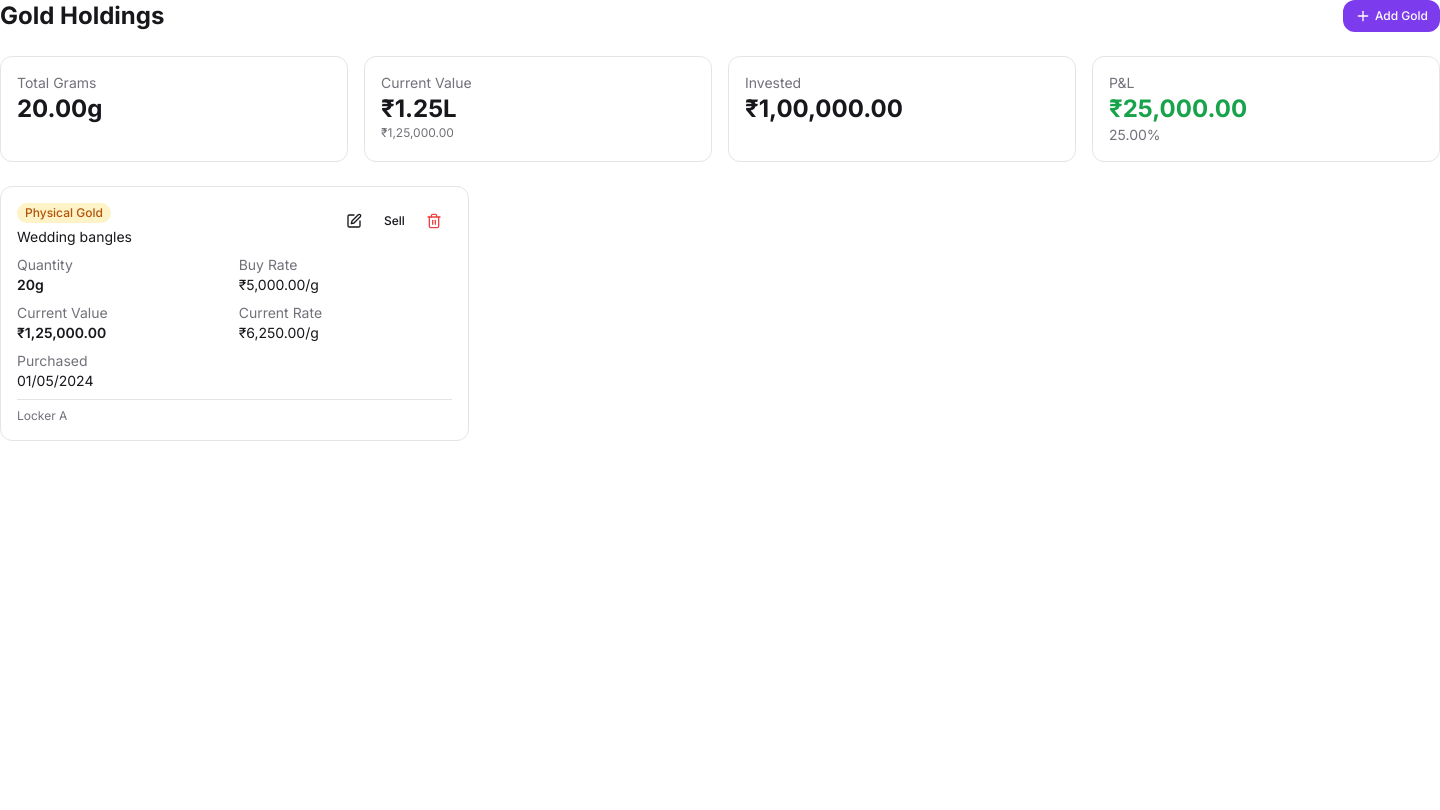
Test: Gold page — smoke › a MEMBER can open the add-holding form
Expected: the text "Wedding bangles" is shown, x1=17 y1=227 x2=132 y2=247
Click the button "Add Gold": (1391, 16) x1=1343 y1=0 x2=1439 y2=32
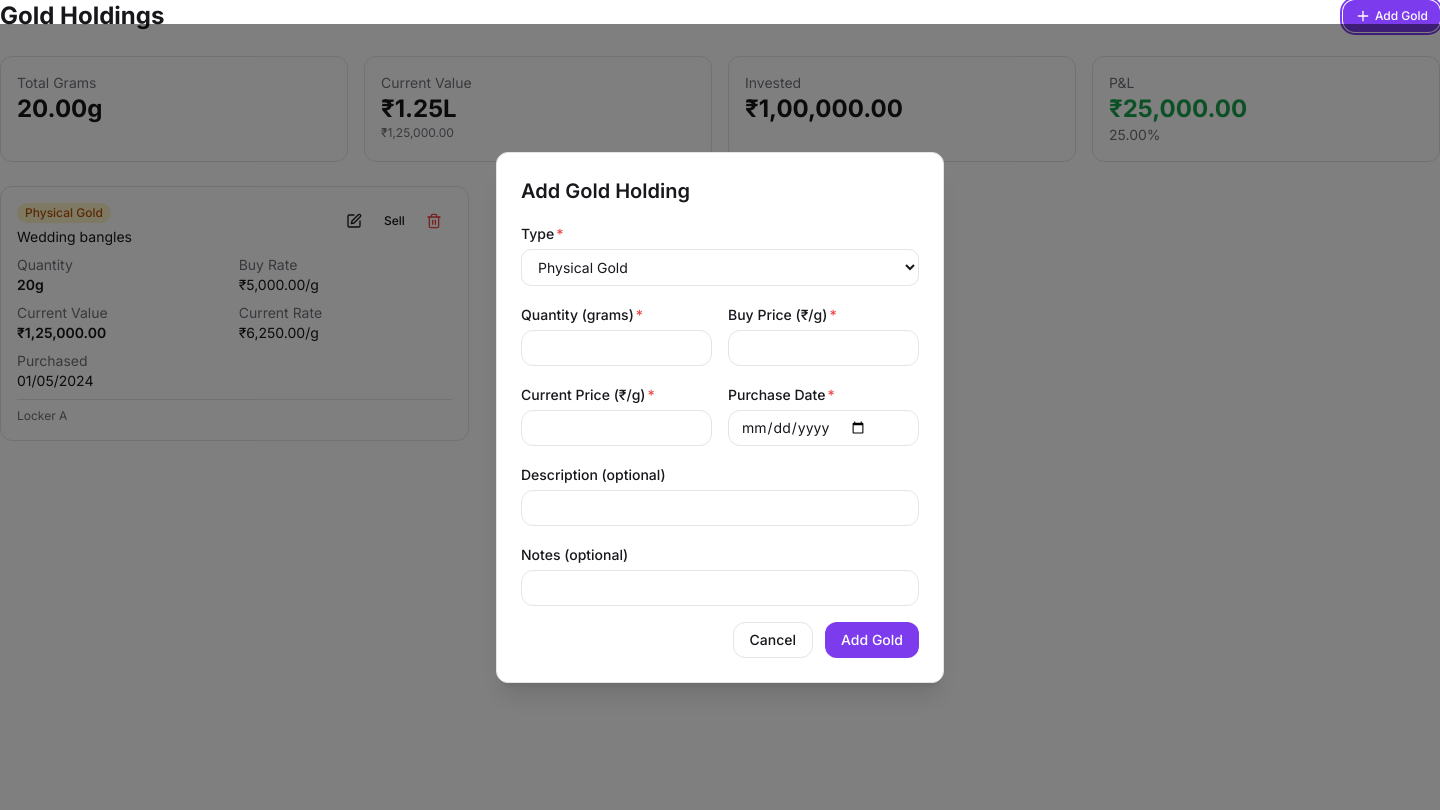
Now the heading "Add Gold Holding" is shown, box x1=521 y1=178 x2=690 y2=202
